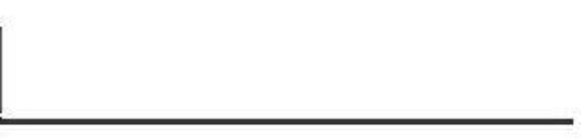EditText: (1, 1, 580, 139)
